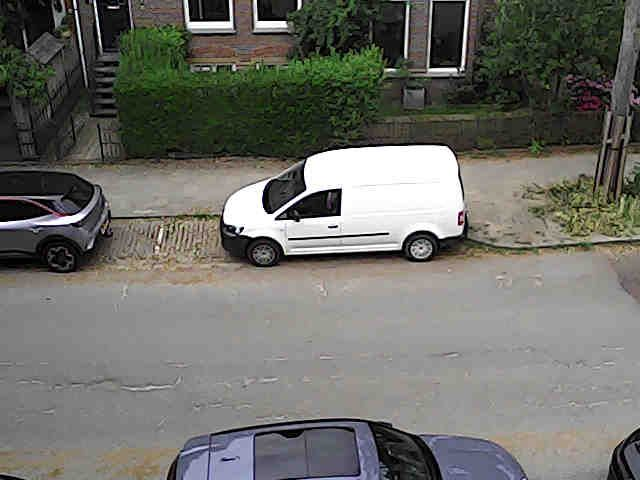suv: (167, 418, 525, 479), (0, 171, 110, 272), (607, 428, 639, 479)
whitevan: (220, 145, 467, 266)
